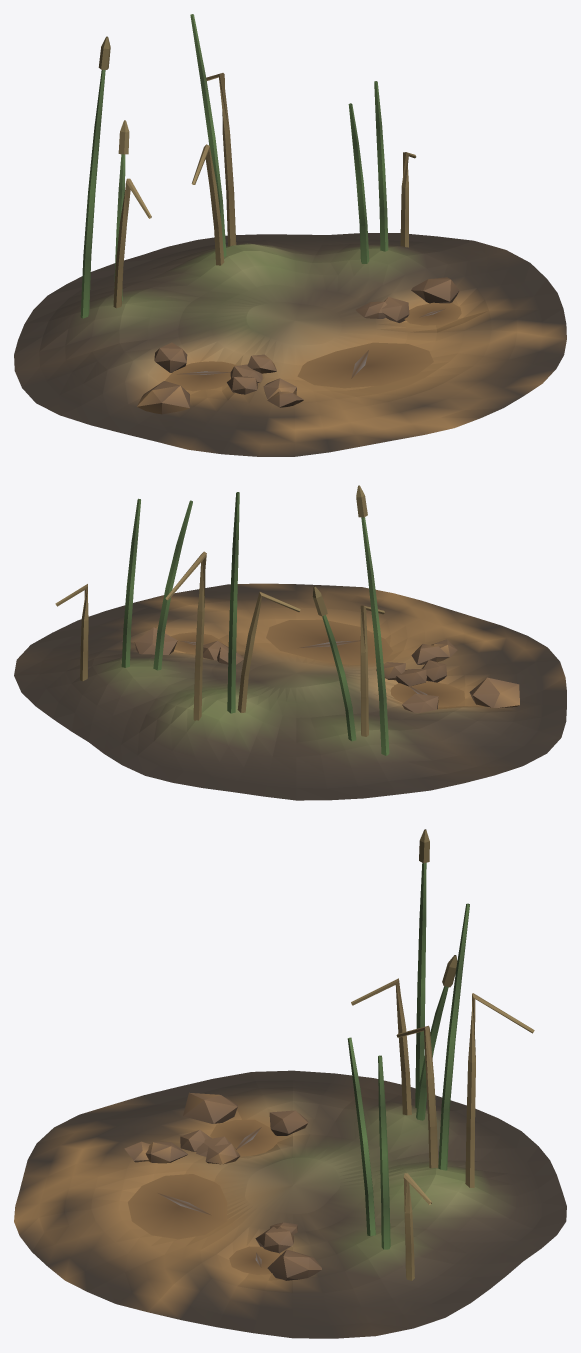
The model's file is bog_iron_a.glb.
The picture shows the model from 3 angles, top to bottom: view 1: azimuth 30°, elevation 25°; view 2: azimuth 150°, elevation 25°; view 3: azimuth 270°, elevation 25°; orthographic projection. The views are drawn at different scales.
Parts seen in each view (by area): view 1: bog_iron_a; view 2: bog_iron_a; view 3: bog_iron_a.
Part boxes in pixels (bbox=[...]): bog_iron_a: bbox=[14, 14, 566, 456]; bog_iron_a: bbox=[14, 485, 566, 800]; bog_iron_a: bbox=[14, 829, 566, 1338].
Size of the model in its own units: 1.06 by 0.5769 by 0.9177.
